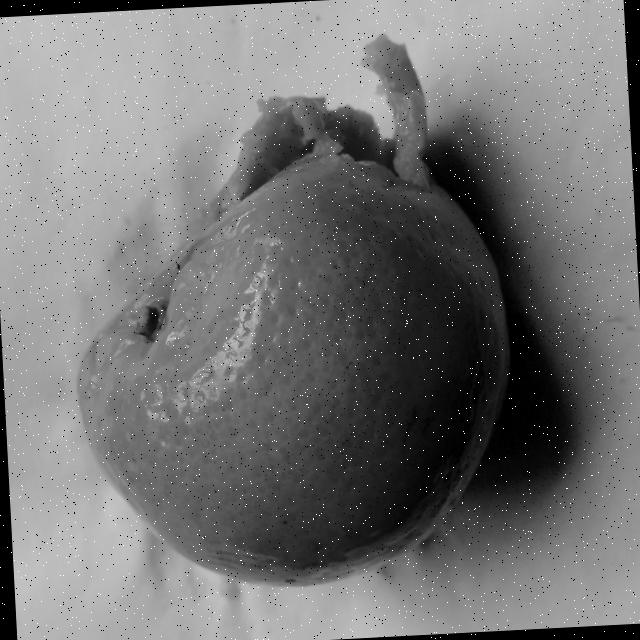Rotten: (55, 29, 521, 599)
